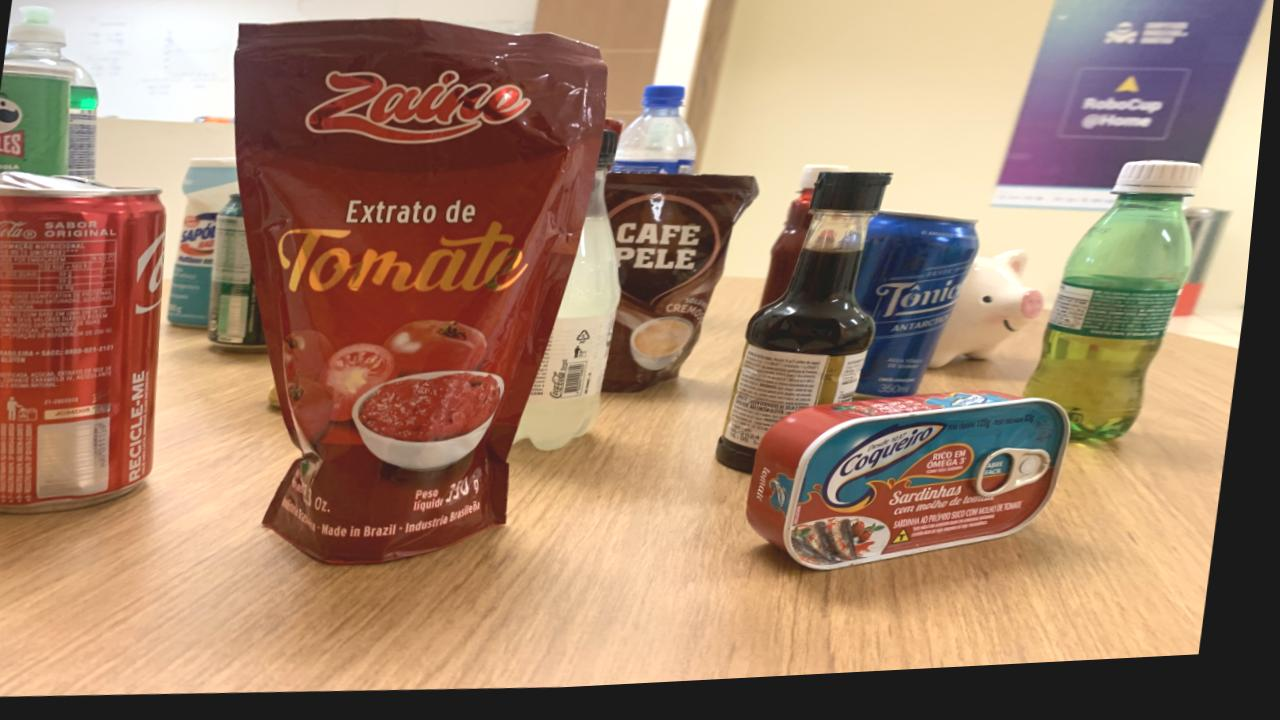Cleaner-Cleanup_Items: (174, 162, 243, 329)
Coffee-Pantry_Items: (609, 180, 763, 400)
Coke-Drinks: (0, 189, 169, 512)
Detergent-Cleanup_Items: (5, 5, 101, 179)
English_Sauce-Pantry_Items: (725, 181, 896, 481)
Guarana-Drinks: (1033, 173, 1205, 451)
Guarana_Can-Drinks: (214, 197, 273, 353)
Ketchup-Pantry_Items: (767, 173, 852, 316)
Pig_Safe-Miscellaneous: (937, 262, 1051, 379)
Pringles-Snacks: (0, 62, 74, 176)
Soda-Drinks: (526, 137, 627, 456)
Tomato_Sauce-Pantry_Items: (236, 24, 609, 568)
Tonic-Drinks: (862, 222, 985, 407)
Tuna_Can-Pantry_Items: (758, 403, 1079, 580)
Water_Bottle-Drinks: (615, 93, 700, 182)
